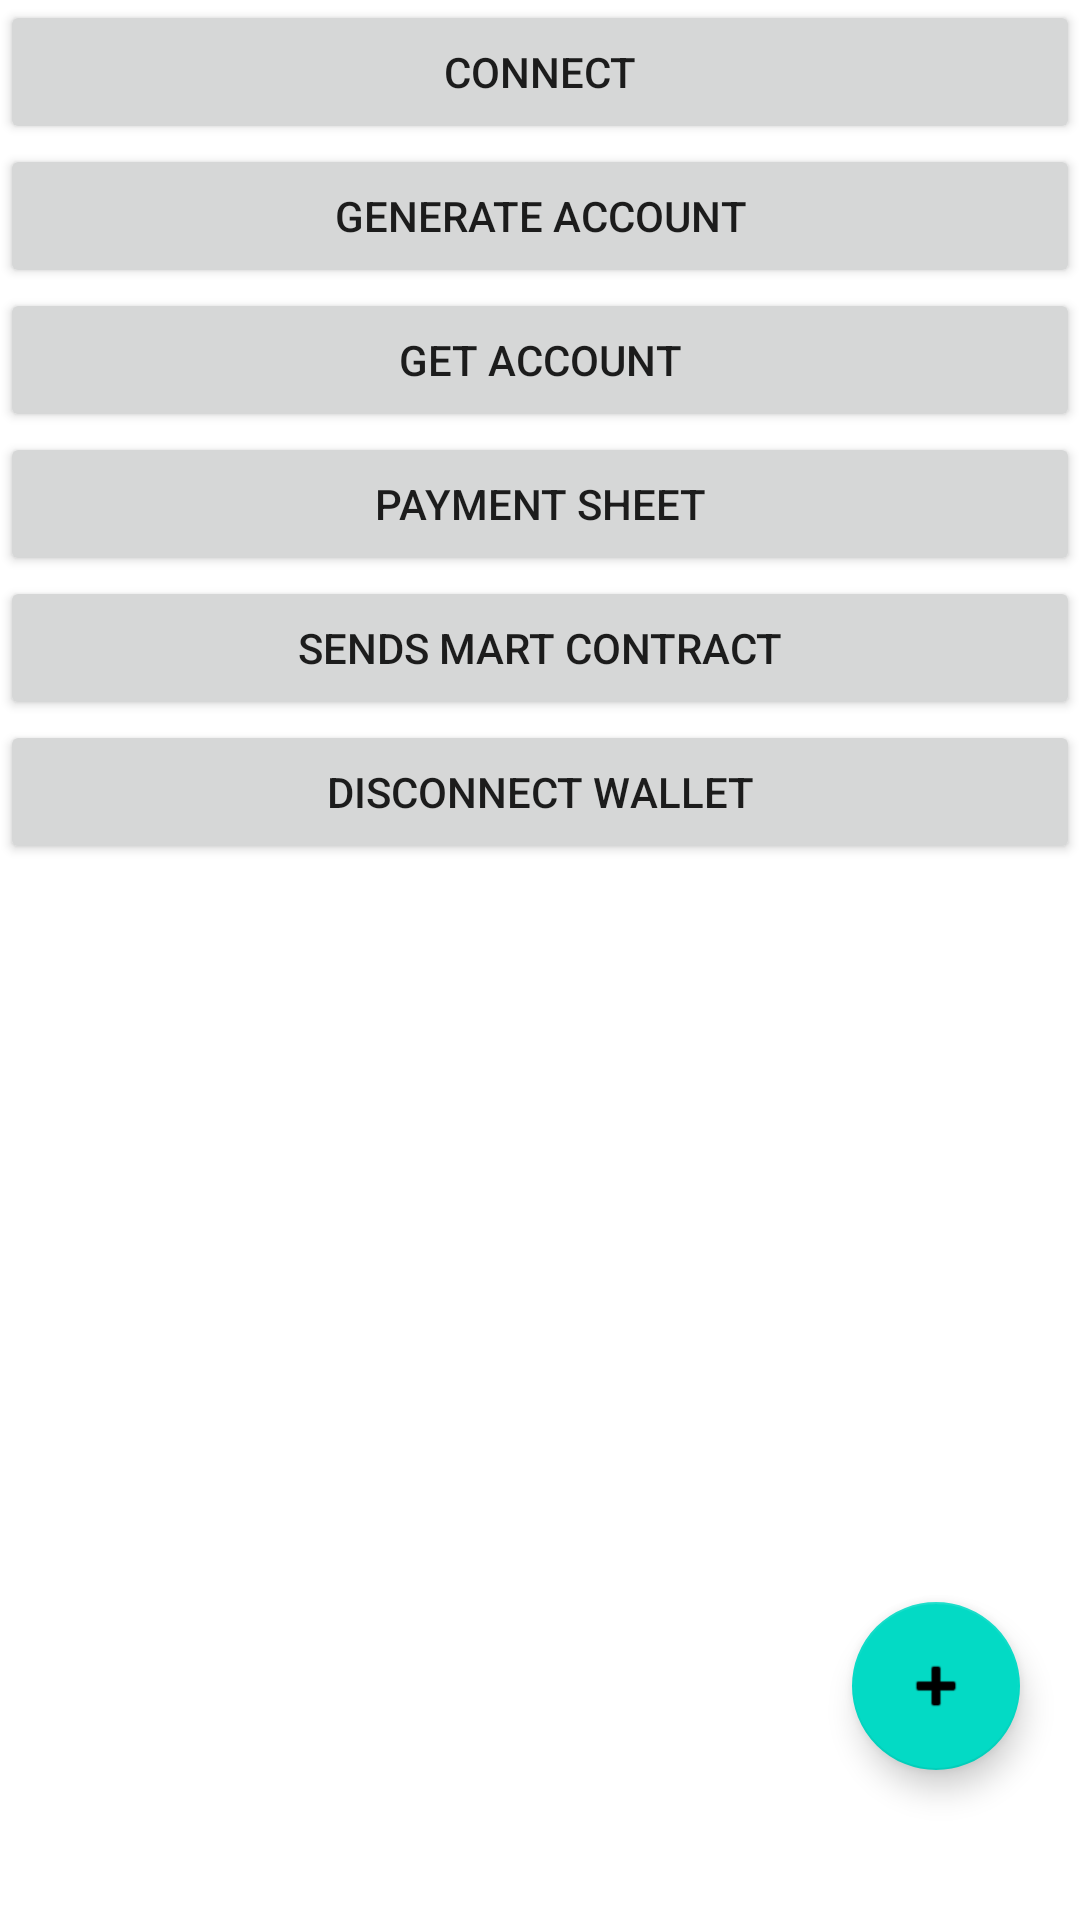

Point at icon controls on the screen. Image size 1080 x 1920, points as [x,y].
add: [936,1686]
